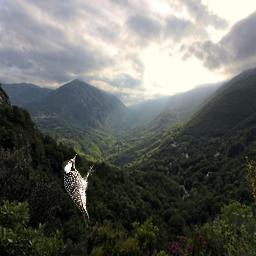Woodpecker: (62, 154, 96, 228)
